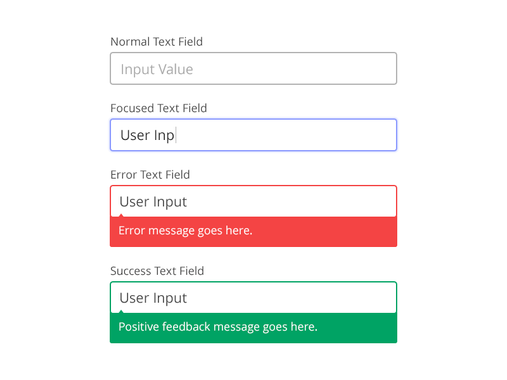error_field: (108, 184, 398, 219)
error_message: (115, 223, 257, 240)
